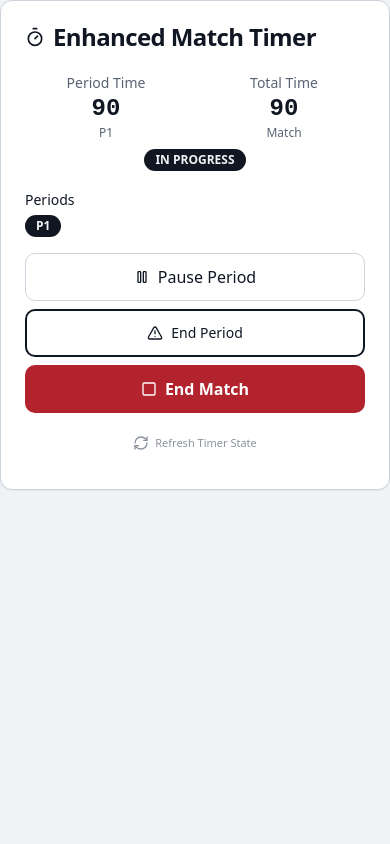
Scenario: EnhancedMatchControls › the confirm is gated, not just the trigger › End Match: a dialog opened while permitted, then displaced, does not end the match — it closes with an explanation
Later steps or results of the test are not shown.
Step 1. Click the button "End Match" → (195,389), box x1=25 y1=365 x2=365 y2=413
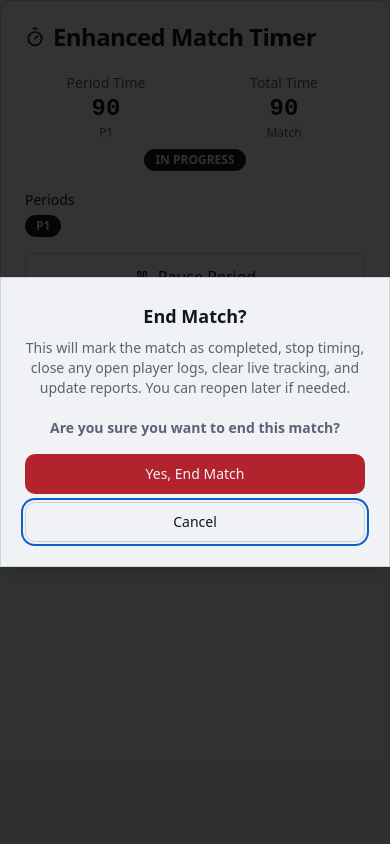
Now the dialog is shown, box x1=0 y1=277 x2=389 y2=567
